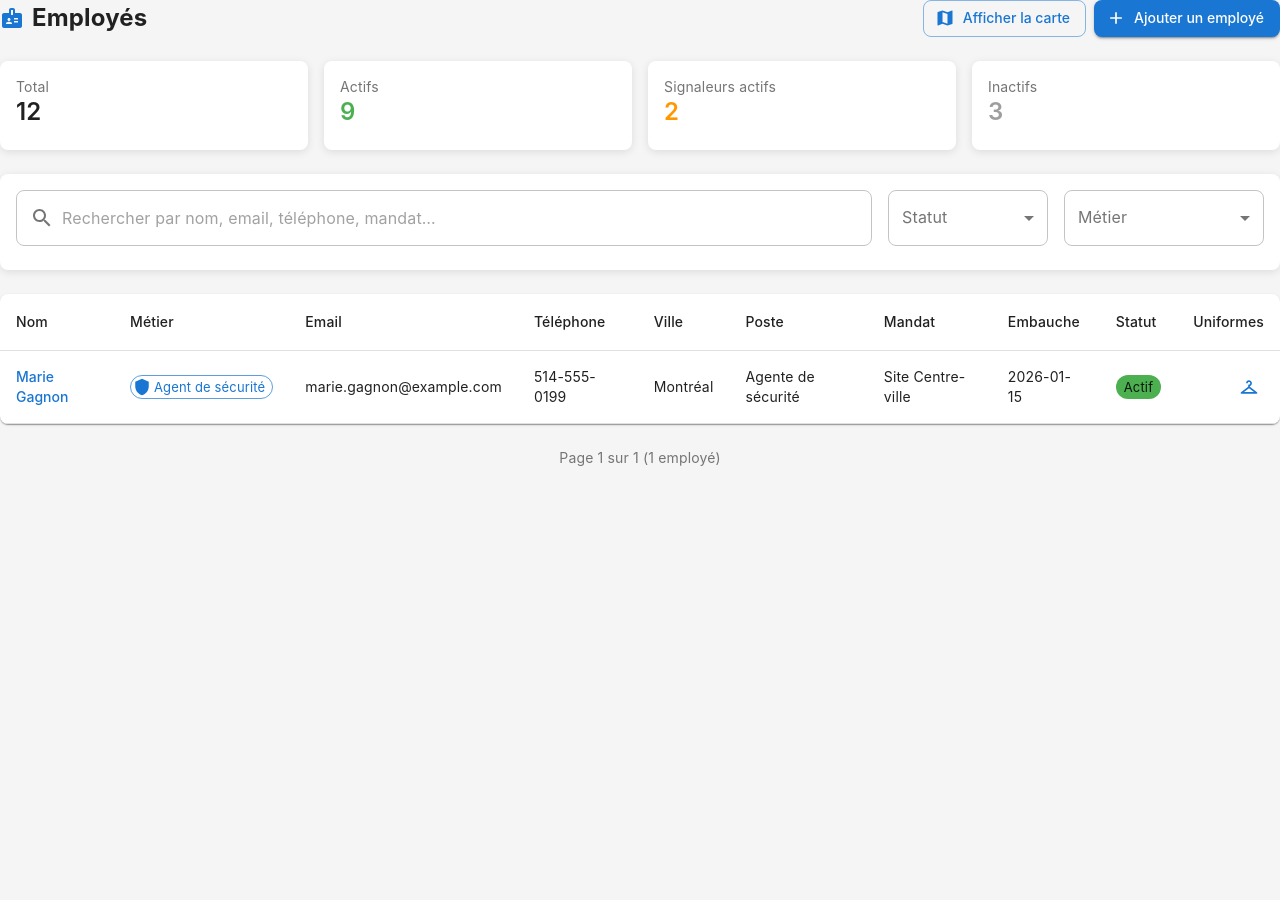
EmployeesPage › un ADMIN voit le bouton « Ajouter un employé » qui ouvre le dialog
Expected: the button "Marie Gagnon" is shown, [16,367,98,407]
Click the button "Ajouter un employé": (1187, 18) [1094,0,1279,36]
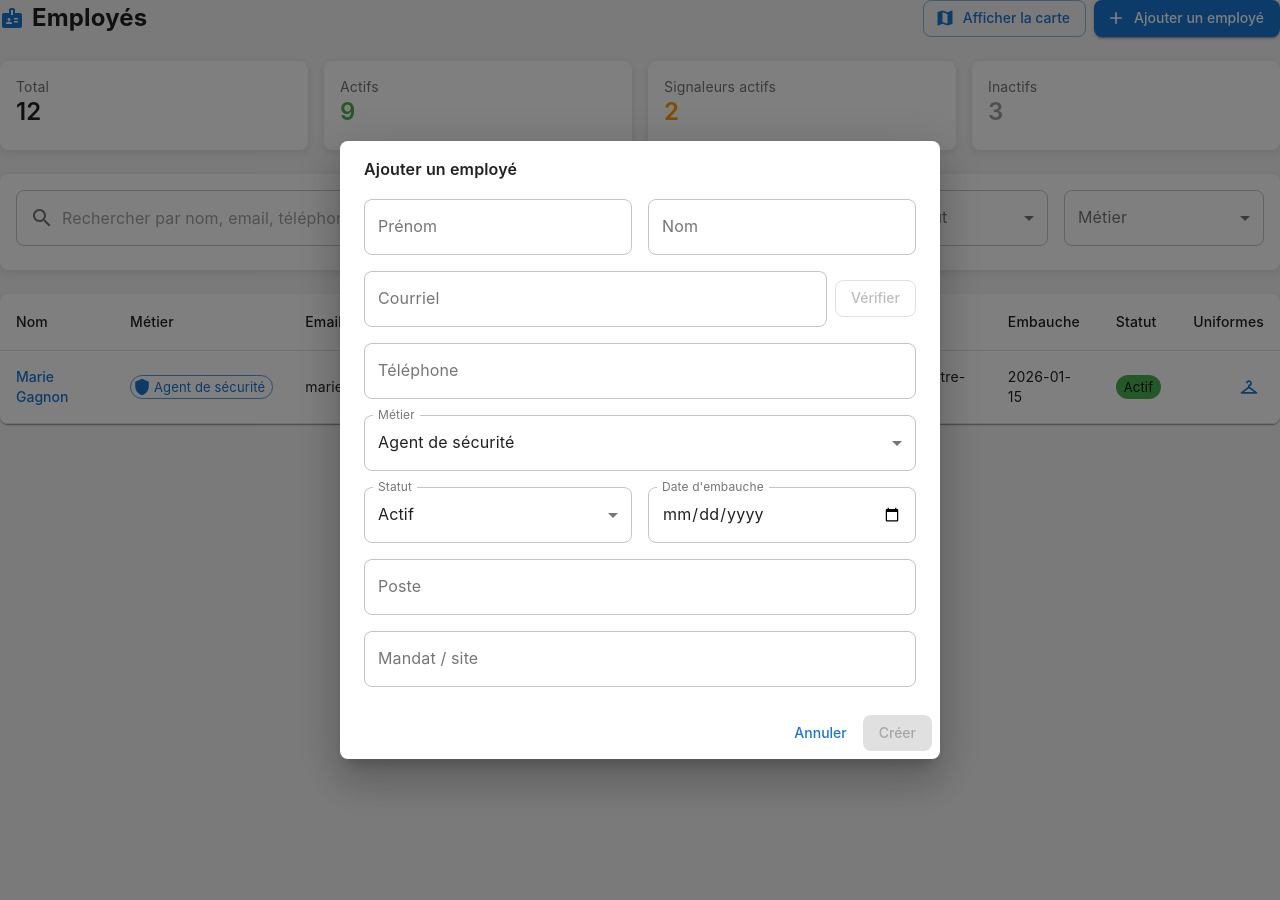
Expected: the field labelled "Prénom" is shown, [364,198,632,254]
Expected: the field labelled "Téléphone" is shown, [364,342,916,398]
